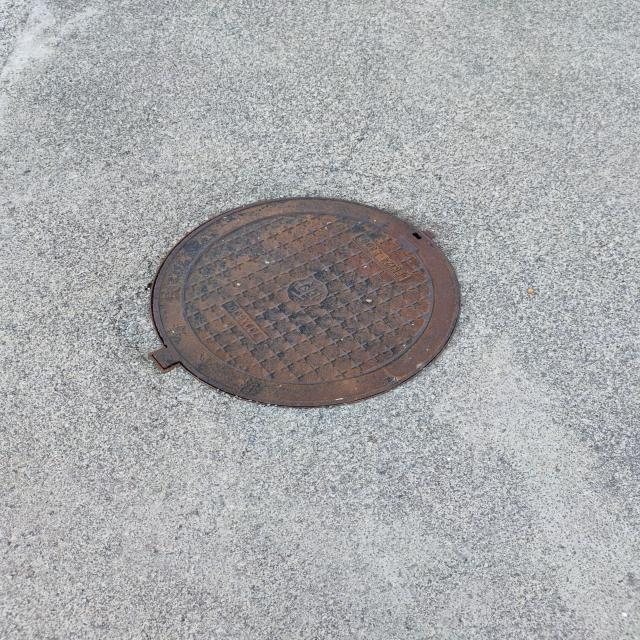Good: (142, 194, 467, 418)
